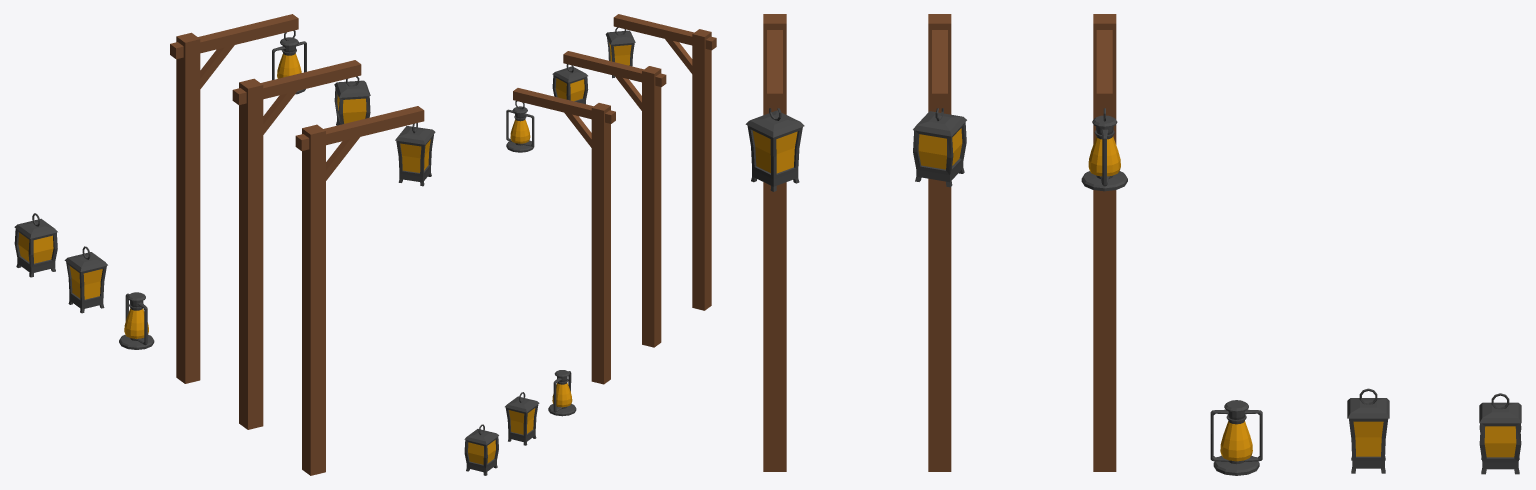
Rendered from Lanterns.fbx.
3 renders of one model, left to right at view 1: azimuth 30°, elevation 25°; view 2: azimuth 150°, elevation 25°; view 3: azimuth 270°, elevation 25°, orthographic. The views are drawn at different scales.
Parts seen in each view (by area): view 1: Street_lamp_01, Street_lamp_02, Street_lamp_03, Lantern_03, Lantern_02, Lantern_01; view 2: Street_lamp_02, Street_lamp_03, Street_lamp_01, Lantern_03, Lantern_02, Lantern_01; view 3: Street_lamp_01, Street_lamp_02, Street_lamp_03, Lantern_03, Lantern_02, Lantern_01.
Boxes of the visible parts, box(x1,y1,x2,y2) form: Street_lamp_01: box(295, 106, 435, 475); Street_lamp_02: box(232, 60, 370, 429); Street_lamp_03: box(170, 14, 306, 383); Lantern_03: box(14, 213, 57, 277); Lantern_02: box(64, 246, 107, 313); Lantern_01: box(119, 292, 154, 349); Street_lamp_02: box(552, 51, 666, 347); Street_lamp_03: box(506, 88, 615, 384); Street_lamp_01: box(605, 14, 716, 310); Lantern_03: box(464, 424, 498, 475); Lantern_02: box(505, 392, 539, 445); Lantern_01: box(548, 370, 576, 416); Street_lamp_01: box(745, 14, 804, 471); Street_lamp_02: box(913, 14, 966, 471); Street_lamp_03: box(1081, 14, 1127, 471); Lantern_03: box(1479, 393, 1521, 474); Lantern_02: box(1347, 388, 1389, 473); Lantern_01: box(1210, 400, 1262, 475).
Size of the model in its own units: 63.39 by 150 by 235.
1 material, 1 textured.
